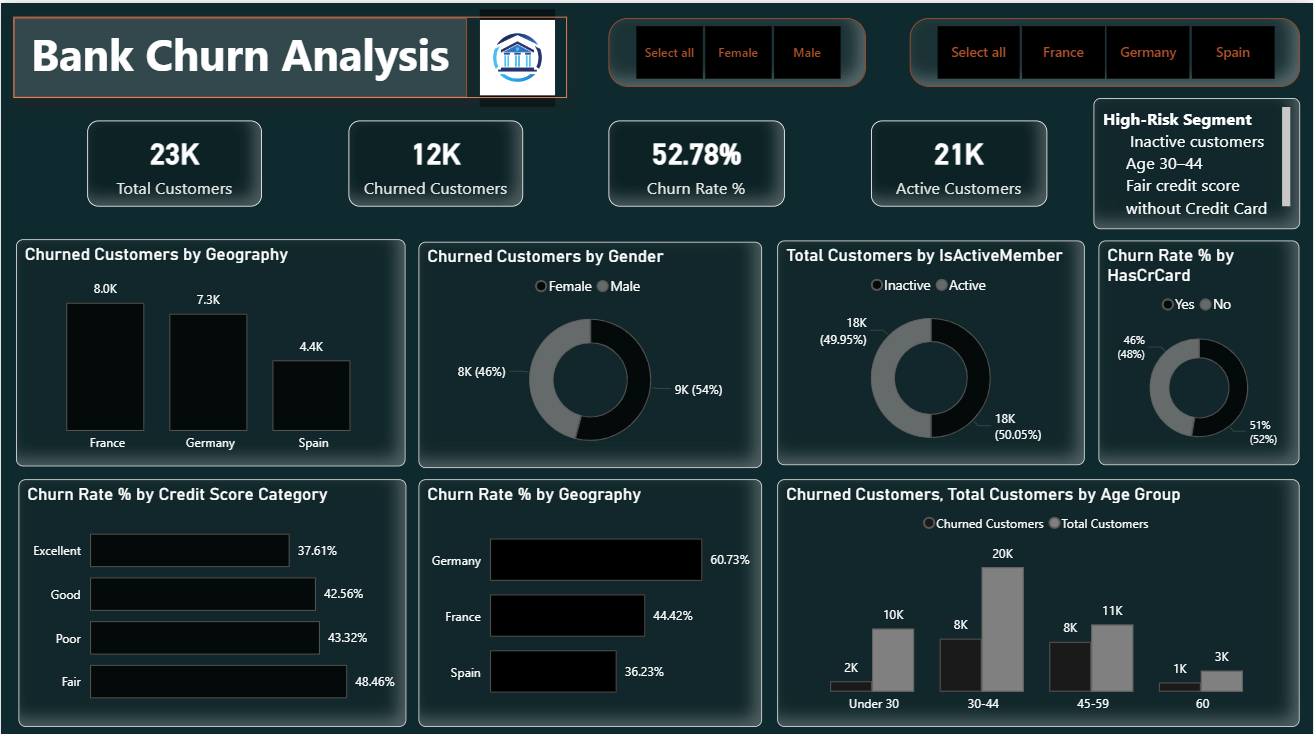

The page's visual inventory and layout, read from the dashboard file:
{"tool":"powerbi","page":{"name":"c","canvas":[1280,720],"ordinal":0},"visuals":[{"type":"textbox","box":[12.5,15,442.5,77.5],"z":0},{"type":"card","fields":{"Values":["train.Total Customers"]},"box":[84.1,115.2,170.7,84.1],"z":1000},{"type":"card","fields":{"Values":["train.Churned Customers"]},"box":[338.6,115.2,170.7,84.1],"z":2000},{"type":"card","fields":{"Values":["train.Churn Rate %"]},"box":[593.1,115.2,172,84.1],"z":3000},{"type":"card","fields":{"Values":["train.Active Customeres"]},"box":[848.8,115.2,172,84.1],"z":4000},{"type":"clusteredColumnChart","title":"Churned Customers by Geography","fields":{"Category":["train.Geography"],"Y":["train.Churned Customers"]},"box":[15,230,380,221.2],"z":5000},{"type":"donutChart","fields":{"Category":["train.Gender"],"Y":["train.Churned Customers"]},"box":[407.8,232.7,335.4,220.7],"z":6000},{"type":"slicer","fields":{"Values":["train.Gender"]},"box":[592.7,14.6,251.2,67.1],"z":7000},{"type":"slicer","fields":{"Values":["train.Geography"]},"box":[886.6,14.6,380.5,67.1],"z":8000},{"type":"donutChart","fields":{"Category":["train.IsActiveMember"],"Y":["train.Total Customers"]},"box":[757.3,231.7,300,219.5],"z":9000},{"type":"clusteredColumnChart","title":"Churned Customers, Total Customers by Age Group","fields":{"Category":["train.Age Group"],"Y":["train.Churned Customers","train.Total Customers"]},"box":[757.3,464.6,509.8,241.5],"z":10000},{"type":"clusteredBarChart","title":"Churn Rate % by Credit Score Category","fields":{"Category":["train.Credit Score Category"],"Y":["train.Churn Rate %"]},"box":[17.6,464.4,378,241.5],"z":11000},{"type":"image","box":[467.5,6.2,73.8,95],"z":12000},{"type":"textbox","box":[1065.9,92.7,201.2,128],"z":13000},{"type":"clusteredBarChart","title":"Churn Rate % by Geography","fields":{"Category":["train.Geography"],"Y":["train.Churn Rate %"]},"box":[407.8,464.4,335.4,241.5],"z":14000},{"type":"donutChart","fields":{"Category":["train.HasCrCard"],"Y":["train.Churn Rate %"]},"box":[1070.7,231.7,196.3,219.5],"z":15000},{"type":"textbox","box":[12.2,13.4,540.2,79.3],"z":16000}]}

Visuals, with their boxes in screenshot pixels (x1, y1, x2, y2), scaled from the page's 1280x720 canvas onto the 1314x734 screenshot:
textbox: 13 15 467 94
card - train.Total Customers: 86 117 262 203
card - train.Churned Customers: 348 117 523 203
card - train.Churn Rate %: 609 117 785 203
card - train.Active Customeres: 871 117 1048 203
"Churned Customers by Geography" clusteredColumnChart: 15 234 405 460
donutChart - train.Gender x train.Churned Customers: 419 237 763 462
slicer - train.Gender: 608 15 866 83
slicer - train.Geography: 910 15 1301 83
donutChart - train.IsActiveMember x train.Total Customers: 777 236 1085 460
"Churned Customers, Total Customers by Age Group" clusteredColumnChart: 777 474 1301 720
"Churn Rate % by Credit Score Category" clusteredBarChart: 18 473 406 720
image: 480 6 556 103
textbox: 1094 95 1301 225
"Churn Rate % by Geography" clusteredBarChart: 419 473 763 720
donutChart - train.HasCrCard x train.Churn Rate %: 1099 236 1301 460
textbox: 13 14 567 95
